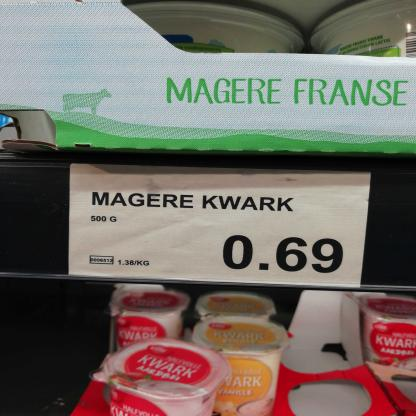prtg: (71, 164, 371, 288)
